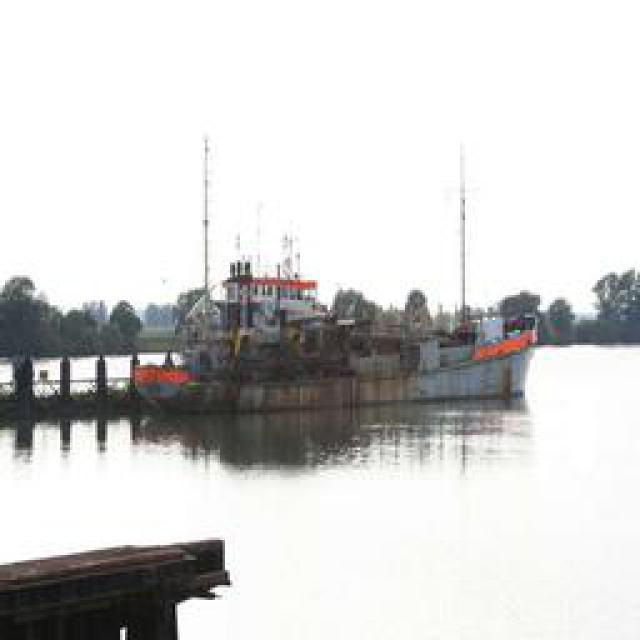Ship: (124, 189, 558, 419)
